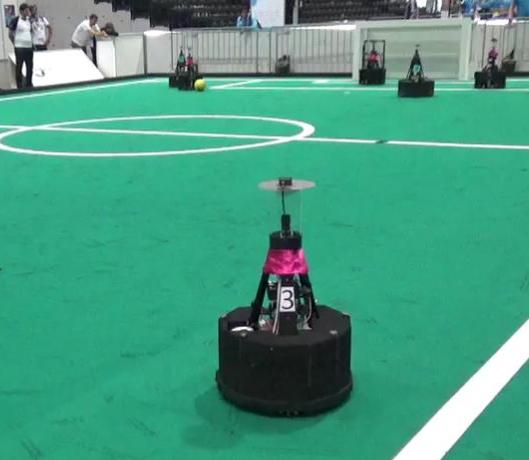robot: (206, 170, 361, 419)
